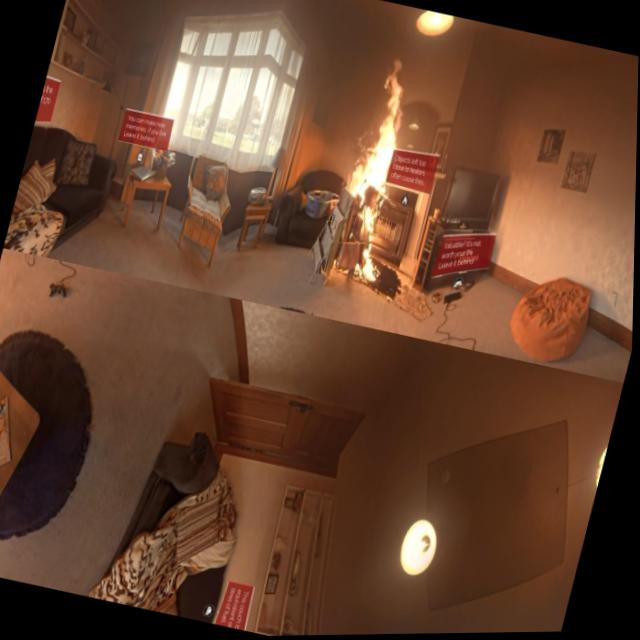fire: (321, 54, 430, 291)
